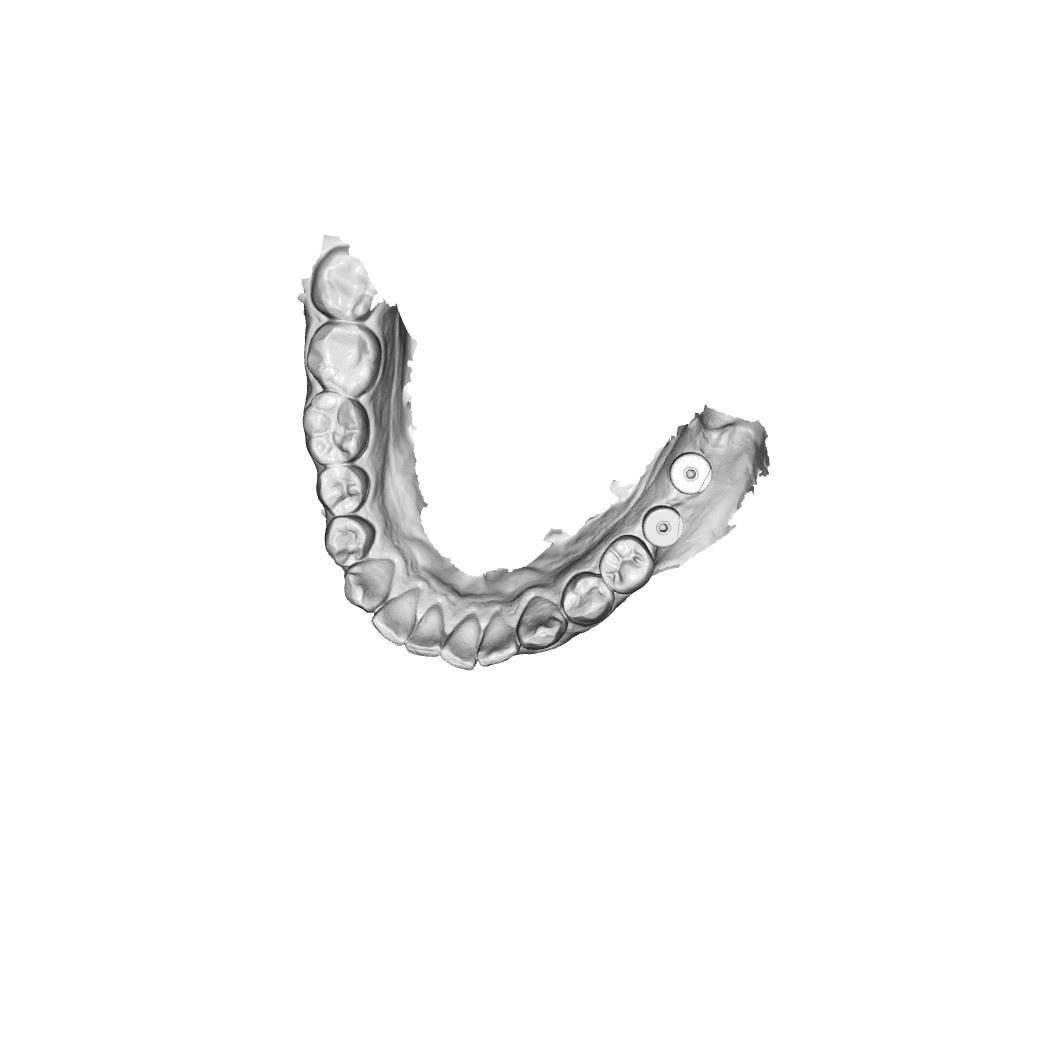canine: (340, 560, 391, 615), (520, 596, 565, 650)
implant: (672, 451, 716, 502), (637, 502, 684, 548)
incisor: (478, 615, 524, 660), (445, 616, 480, 669), (403, 610, 443, 656), (375, 598, 414, 638)
molar: (309, 320, 380, 397), (299, 389, 370, 466)
premolar: (313, 462, 373, 522), (325, 512, 377, 571), (603, 536, 652, 592), (565, 572, 613, 623)
